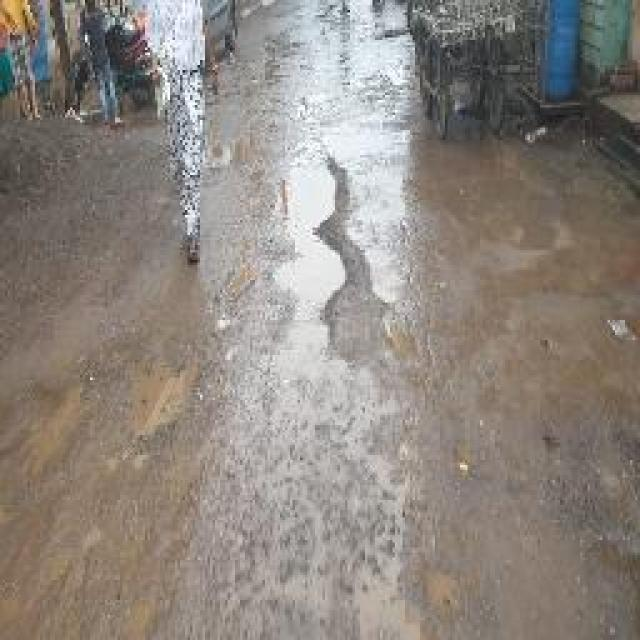stagnation: (283, 109, 420, 388)
